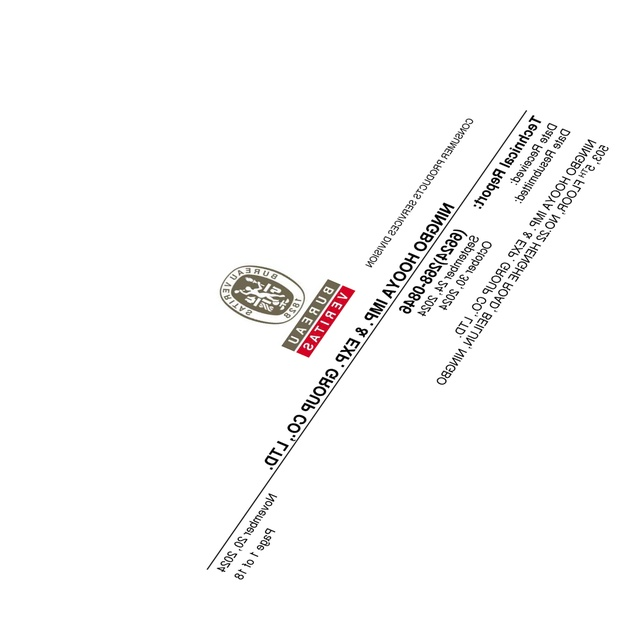bureau_veritas: (218, 263, 356, 358)
